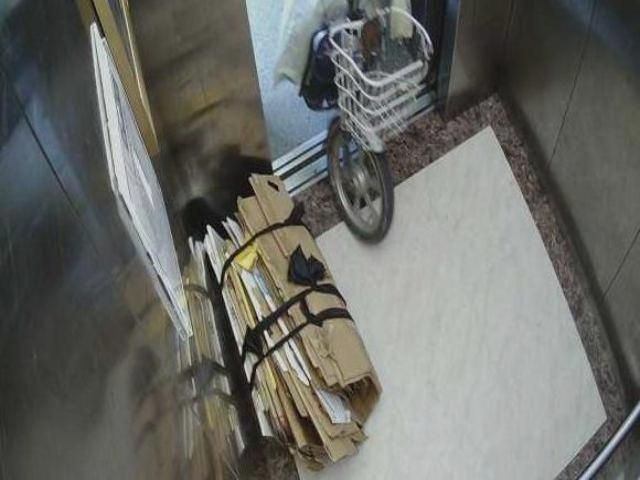bag: (212, 194, 385, 466)
emotor: (315, 4, 428, 242)
